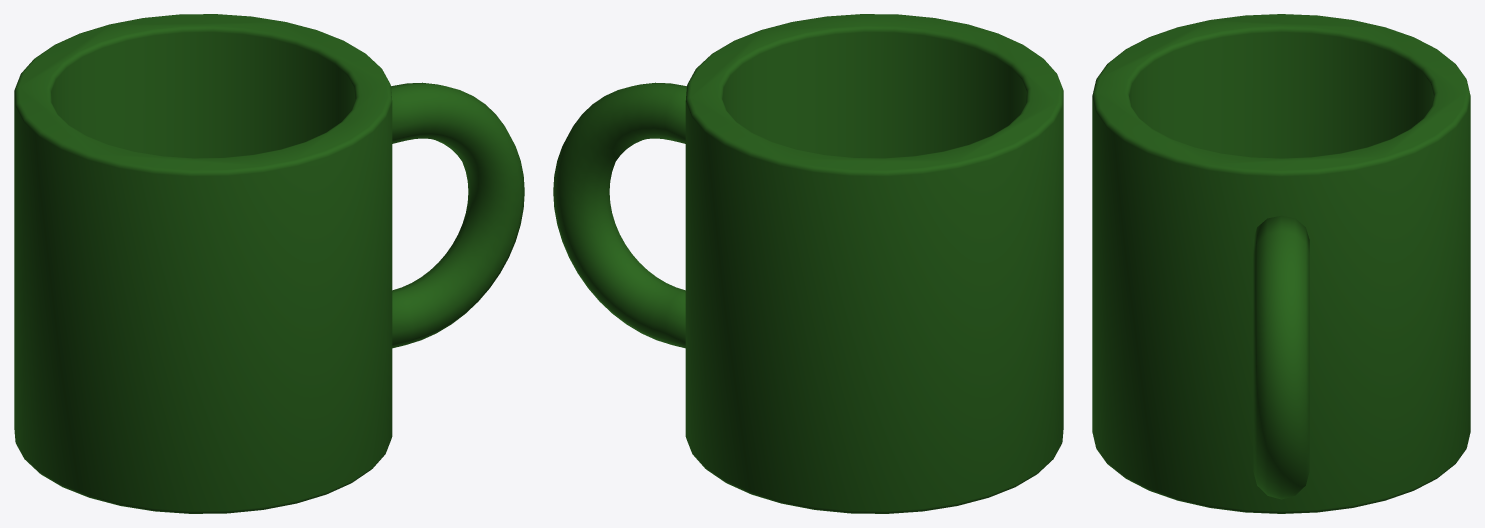
File: kubek3.fbx
The picture shows the model from 3 angles, left to right: view 1: azimuth 30°, elevation 25°; view 2: azimuth 150°, elevation 25°; view 3: azimuth 270°, elevation 25°; orthographic projection.
Parts seen in each view (by area): view 1: kubek, raczka; view 2: kubek, raczka; view 3: kubek, raczka.
Boxes of the visible parts, x1,y1,x2,y2 form: kubek: [14, 14, 392, 513]; raczka: [391, 82, 524, 348]; kubek: [685, 14, 1063, 513]; raczka: [553, 82, 686, 348]; kubek: [1092, 14, 1470, 513]; raczka: [1253, 215, 1309, 499].
Size of the model in its own units: 117 by 80 by 80.
